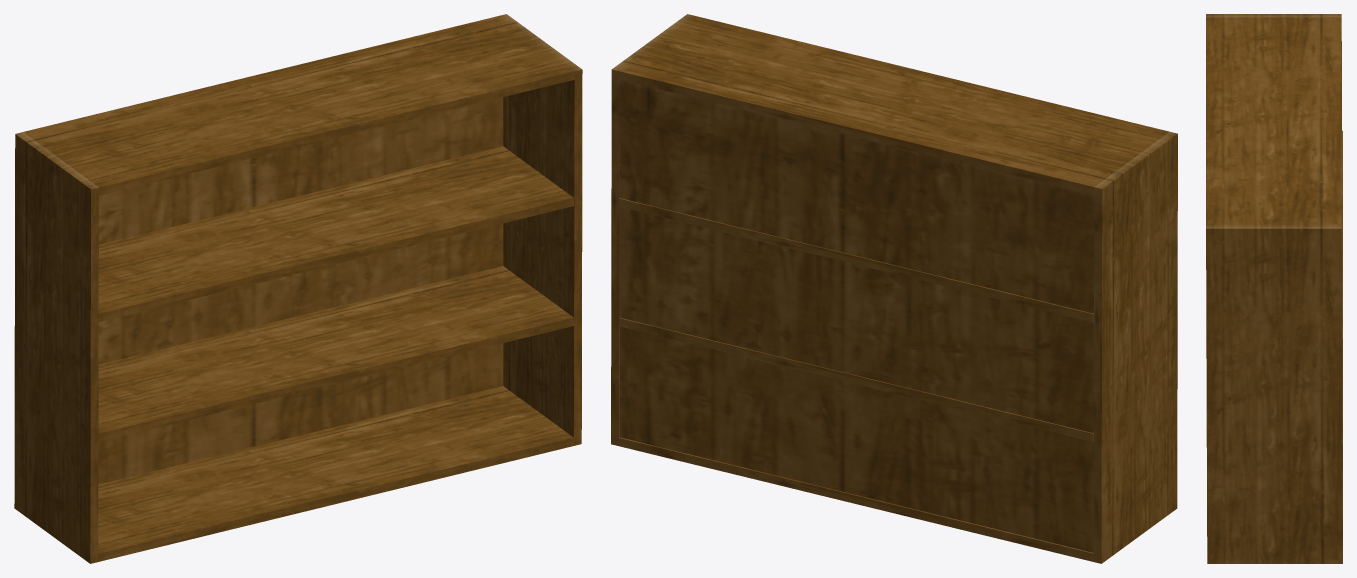
Rendered from cabin03a.fbx.
The picture shows the model from 3 angles, left to right: view 1: azimuth 30°, elevation 25°; view 2: azimuth 150°, elevation 25°; view 3: azimuth 270°, elevation 25°; orthographic projection. The views are drawn at different scales.
Visible parts, largest first — view 1: cabin03a; view 2: cabin03a; view 3: cabin03a.
Boxes of the visible parts, box(x1,y1,x2,y2) form: cabin03a: box(14, 14, 582, 563); cabin03a: box(611, 14, 1177, 563); cabin03a: box(1206, 14, 1342, 563).
Bounding box in the file's own units: 124 × 90.41 × 33.45.
